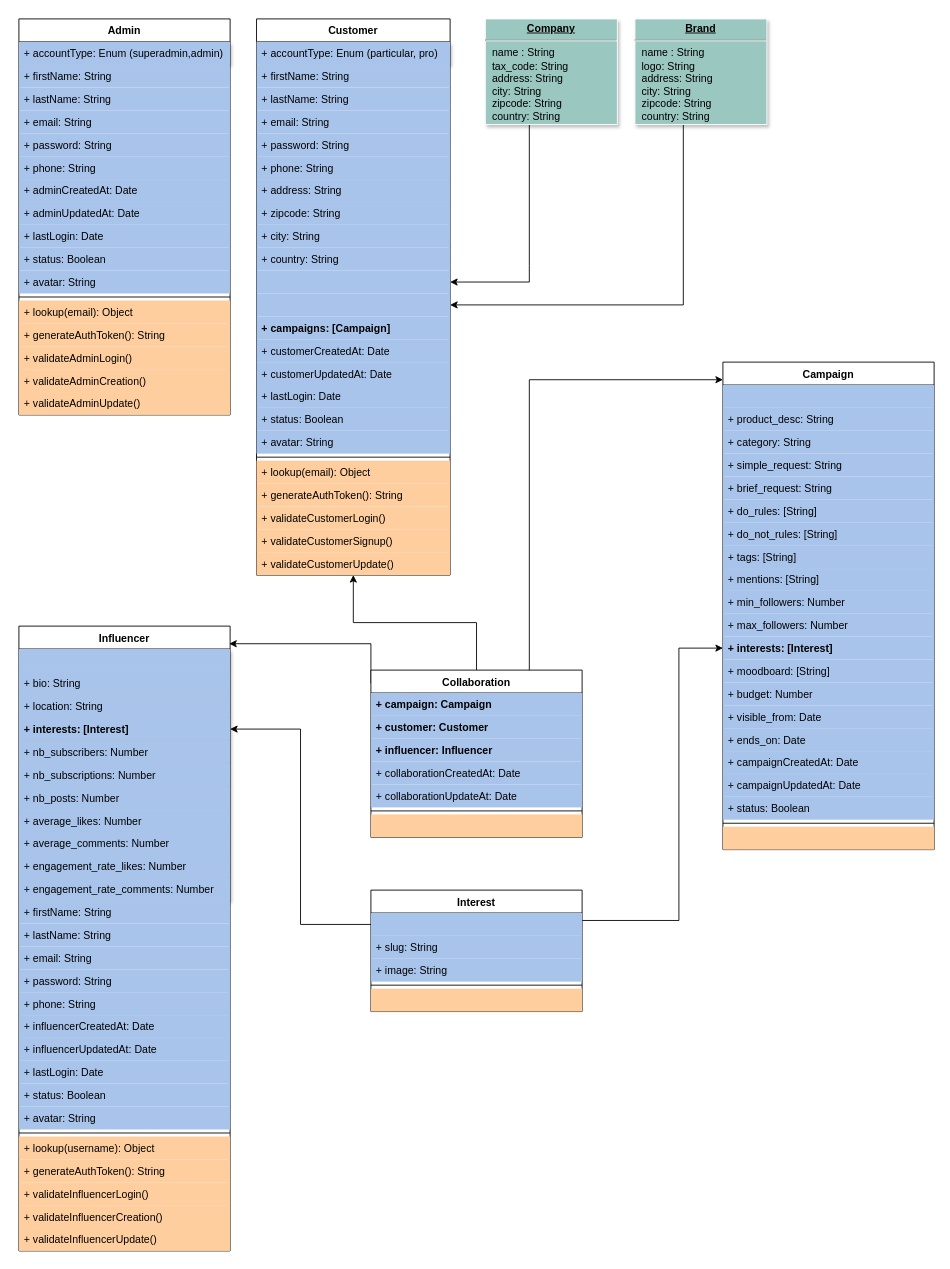
This 950x1269 diagram has some shape labels left out. The shapes that lost their labels are listed below. From the top down, each one's centre as x and y in pixels, then its label:
At (x=353, y=281): "+ company: Company".
At (x=353, y=304): "+ brands: [Brand]".
At (x=828, y=396): "+ product_name: String".
At (x=125, y=661): "+ username: String".
At (x=476, y=924): "+ name: String".
